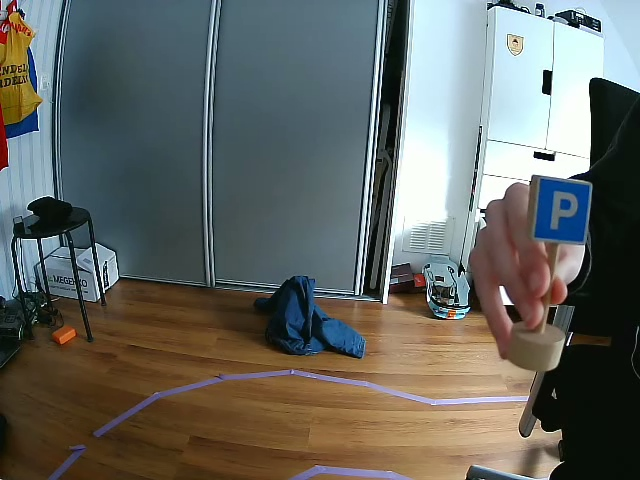parkeerbord: (531, 177, 592, 242)
